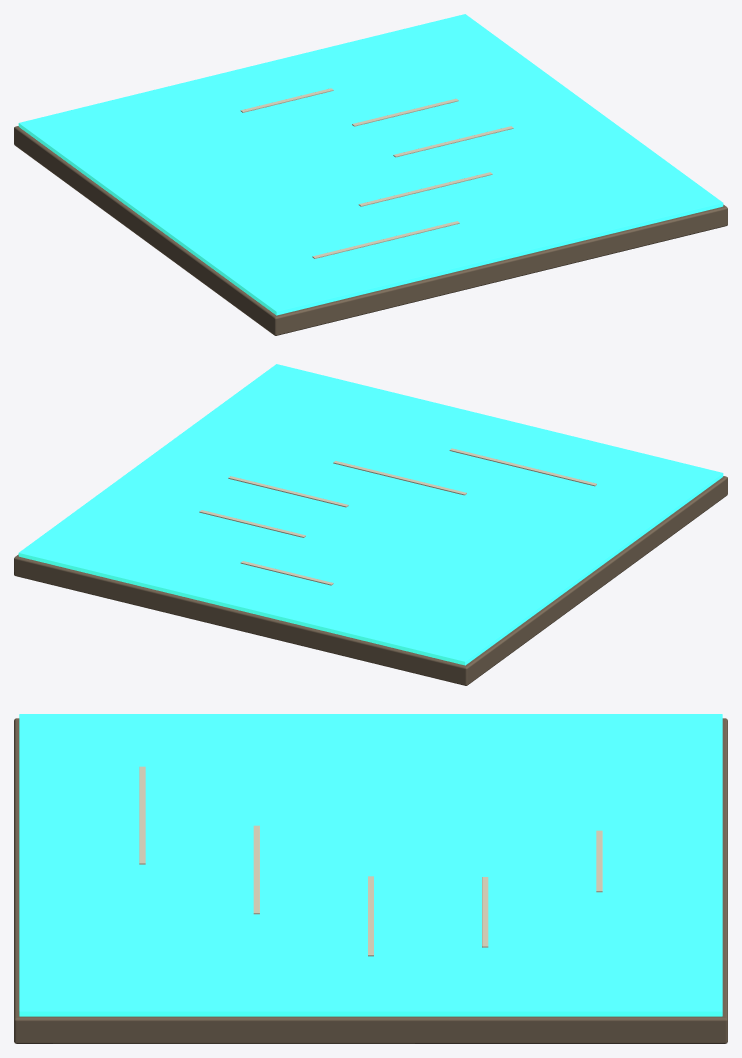
The model's file is sunfall-rift-moba-river-tile-5b6ea0a4__21995.glb.
3 views of the same model, one above another, from view 1: azimuth 30°, elevation 25°; view 2: azimuth 150°, elevation 25°; view 3: azimuth 270°, elevation 25° (orthographic). The views are drawn at different scales.
Parts seen in each view (by area): view 1: river-tile; view 2: river-tile; view 3: river-tile.
Part boxes in pixels (x1,y1,x2,y2): river-tile: (14, 14, 727, 335); river-tile: (14, 364, 727, 685); river-tile: (14, 714, 727, 1043).
Bounding box in the file's own units: 4 × 0.206 × 4.
